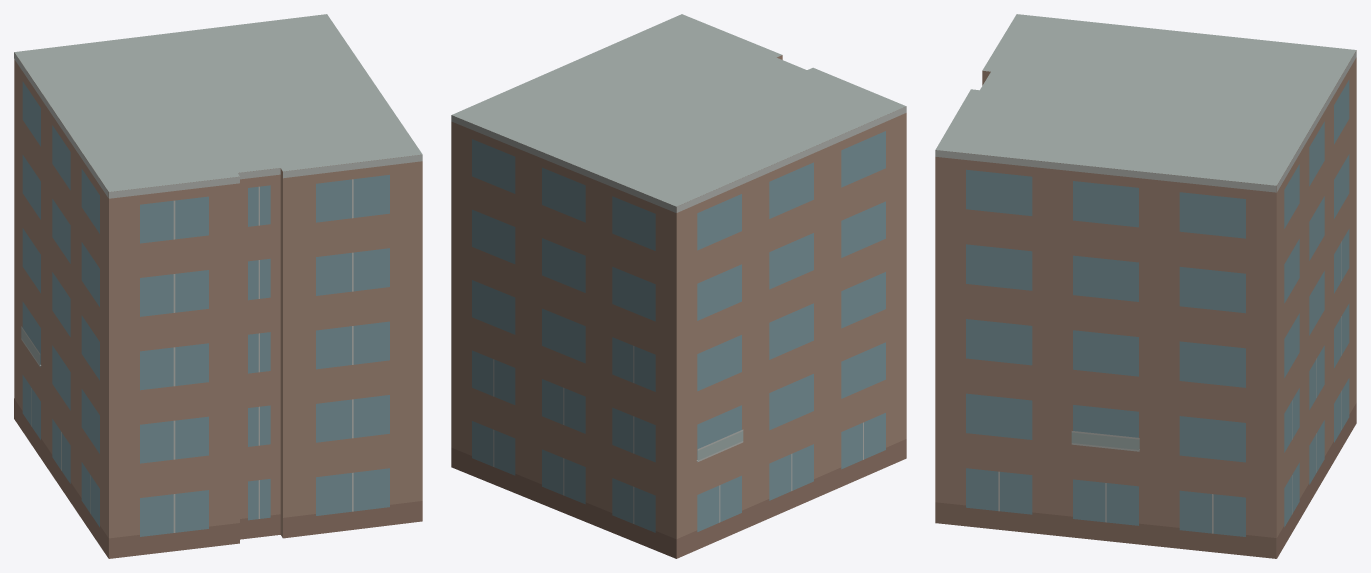
Rendered from survey-upis-32945859.glb.
The picture shows the model from 3 angles, left to right: view 1: azimuth 30°, elevation 25°; view 2: azimuth 150°, elevation 25°; view 3: azimuth 270°, elevation 25°; orthographic projection. The views are drawn at different scales.
Visible parts, largest first — view 1: survey-upis-32945859.tmp; view 2: survey-upis-32945859.tmp; view 3: survey-upis-32945859.tmp.
Boxes of the visible parts, left/top/right/bottom form: survey-upis-32945859.tmp: left=14, top=14, right=422, bottom=558; survey-upis-32945859.tmp: left=451, top=14, right=906, bottom=558; survey-upis-32945859.tmp: left=935, top=14, right=1356, bottom=558.
Size of the model in its own units: 13.14 by 13.3 by 13.62.
